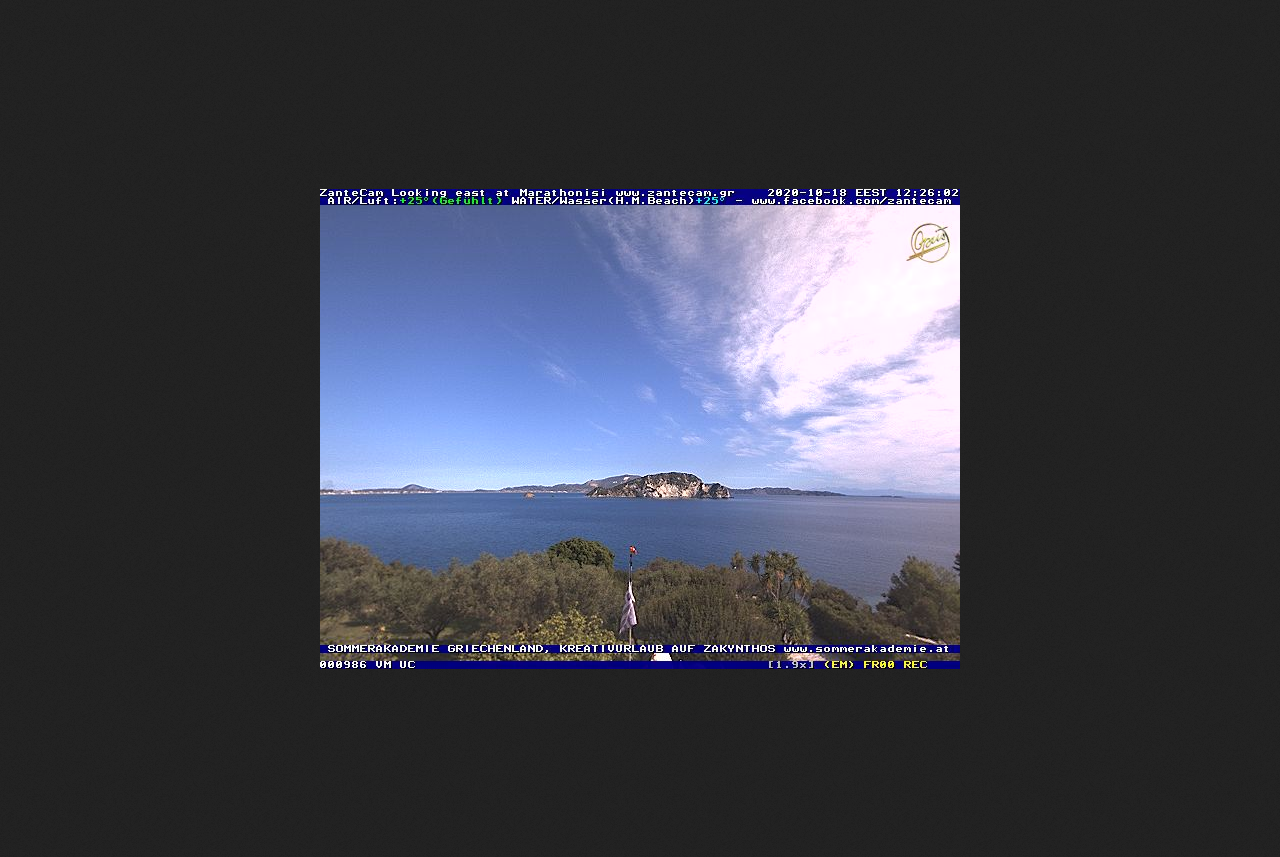no: (615, 576, 640, 636)
